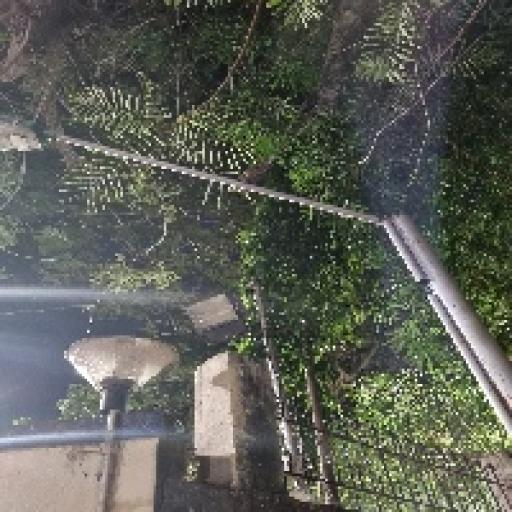Not Working: (54, 300, 202, 434)
